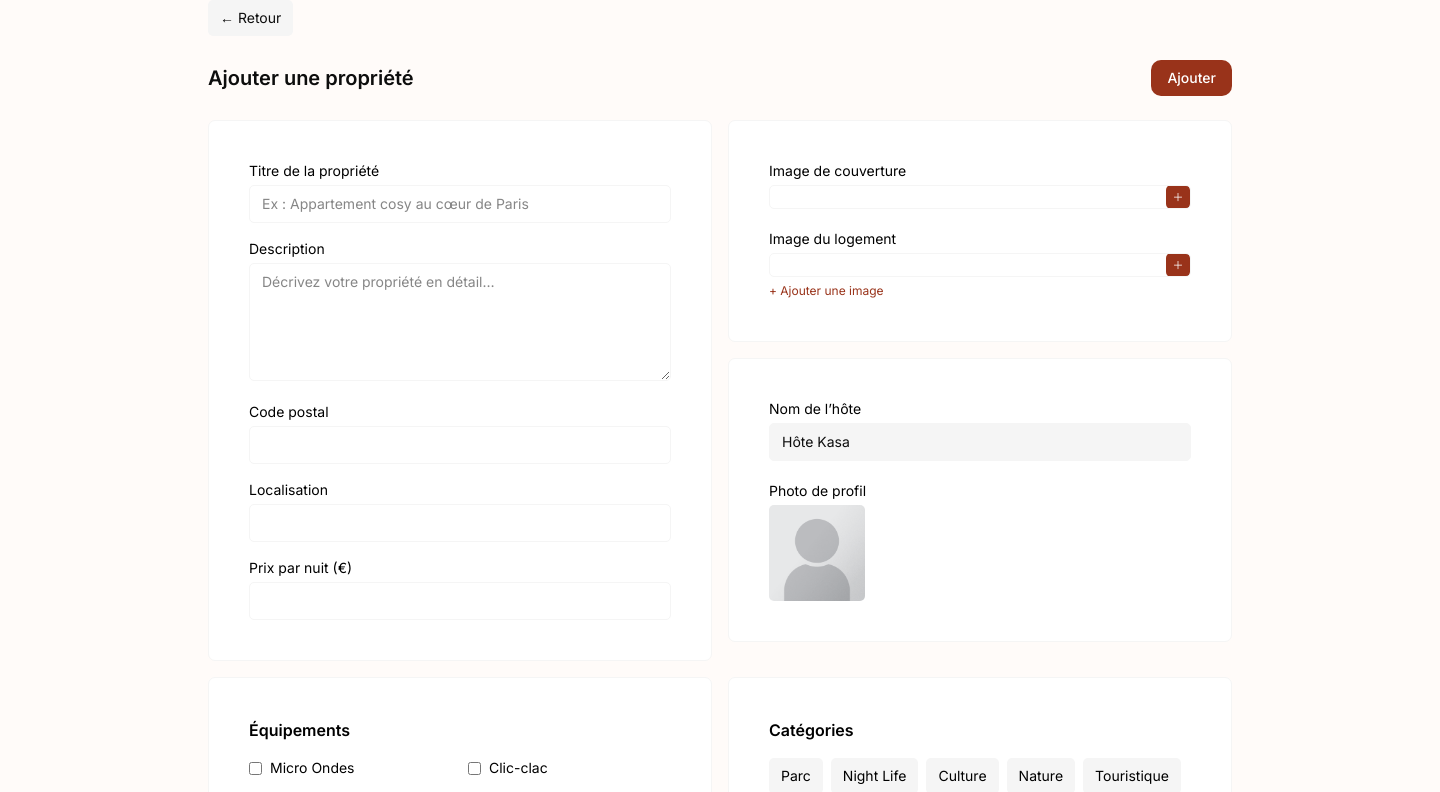
Test: CreatePropertyForm › adds an individual gallery image field
Expected: the file field named "Image du logement 1" below "Image du logement" is shown, [769, 253, 1191, 277]
Click the button "+ Ajouter une image".
click(826, 291)  # box [769, 283, 884, 299]
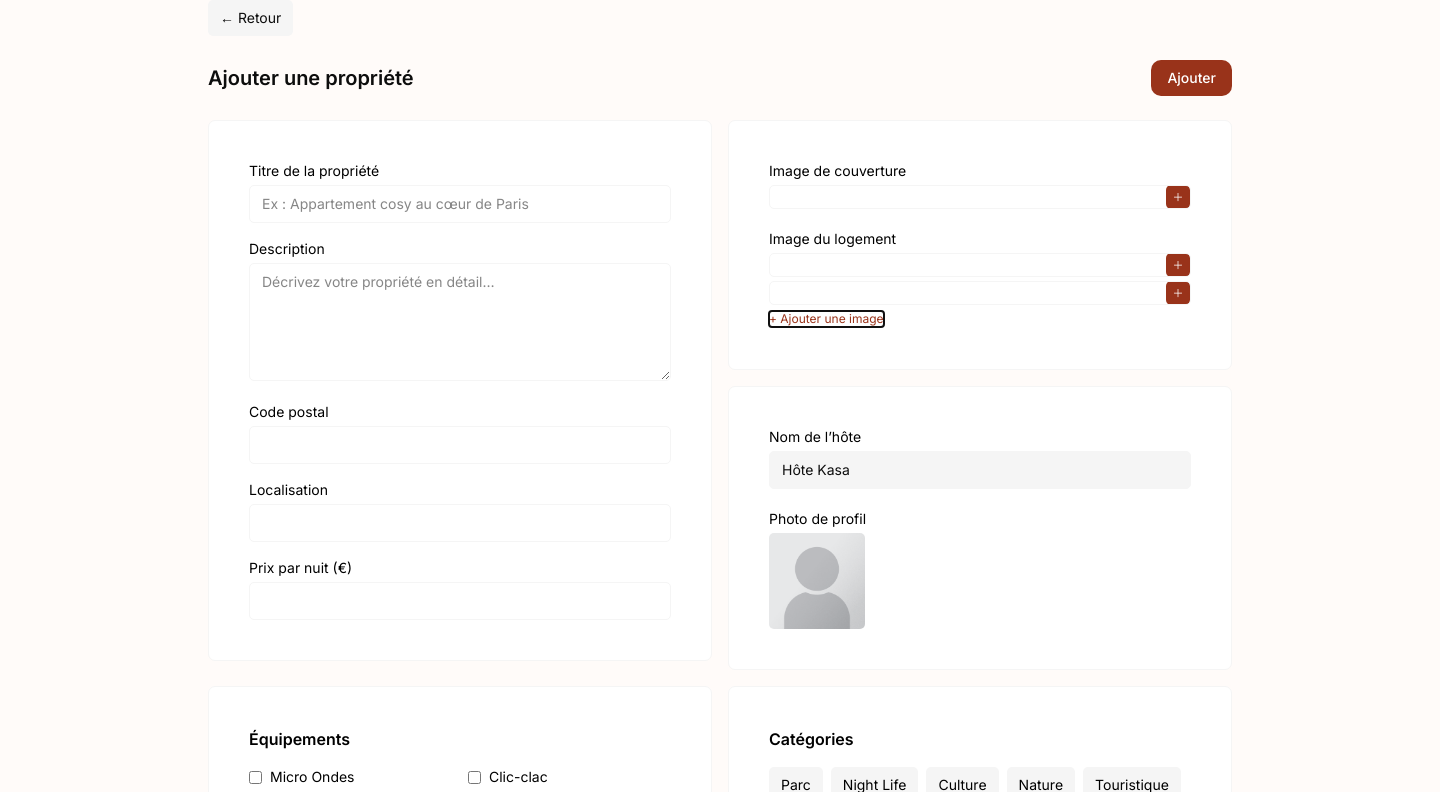
Result: the 3rd file field named "Image du logement 2" is shown at [769, 281, 1191, 305]
